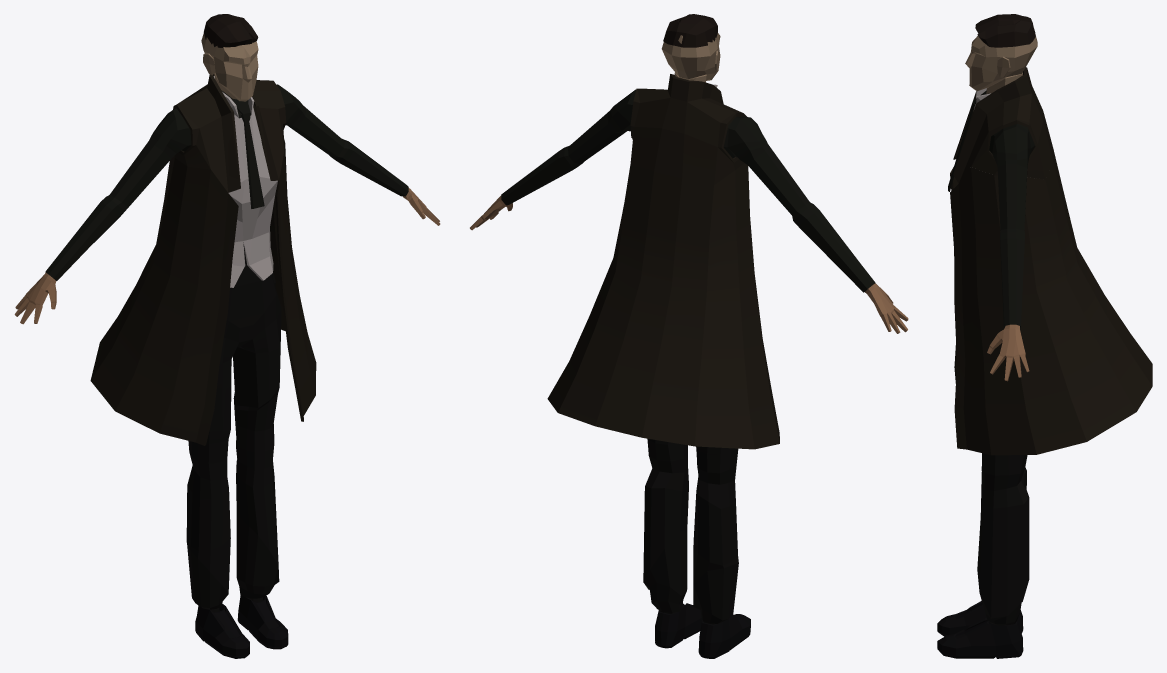
The model's file is detective.obj.
The picture shows the model from 3 angles, left to right: view 1: azimuth 30°, elevation 25°; view 2: azimuth 150°, elevation 25°; view 3: azimuth 270°, elevation 25°; orthographic projection. The views are drawn at different scales.
Parts seen in each view (by area): view 1: polySurface7.001_网格.004, polySurface3_网格.002, pCube3_网格.003, pCube1_网格, pCube4_网格.005, polySurface1_网格.001; view 2: polySurface3_网格.002, polySurface7.001_网格.004, pCube3_网格.003, pCube1_网格, pCube4_网格.005; view 3: polySurface3_网格.002, polySurface7.001_网格.004, pCube3_网格.003, pCube1_网格, pCube4_网格.005.
Part boxes in pixels (x1=…): polySurface7.001_网格.004: x1=14, y1=74, x2=440, y2=612; polySurface3_网格.002: x1=90, y1=143, x2=316, y2=445; pCube3_网格.003: x1=195, y1=595, x2=288, y2=658; pCube1_网格: x1=201, y1=33, x2=258, y2=101; pCube4_网格.005: x1=203, y1=14, x2=258, y2=47; polySurface1_网格.001: x1=231, y1=98, x2=264, y2=208; polySurface3_网格.002: x1=547, y1=163, x2=779, y2=449; polySurface7.001_网格.004: x1=470, y1=74, x2=908, y2=624; pCube3_网格.003: x1=655, y1=603, x2=750, y2=658; pCube1_网格: x1=661, y1=33, x2=720, y2=82; pCube4_网格.005: x1=663, y1=14, x2=717, y2=47; polySurface3_网格.002: x1=950, y1=150, x2=1152, y2=455; polySurface7.001_网格.004: x1=953, y1=67, x2=1053, y2=625; pCube3_网格.003: x1=937, y1=600, x2=1023, y2=658; pCube1_网格: x1=965, y1=34, x2=1037, y2=93; pCube4_网格.005: x1=975, y1=14, x2=1035, y2=47.
Bounding box in the file's own units: 1.37 × 1.91 × 0.5949.
